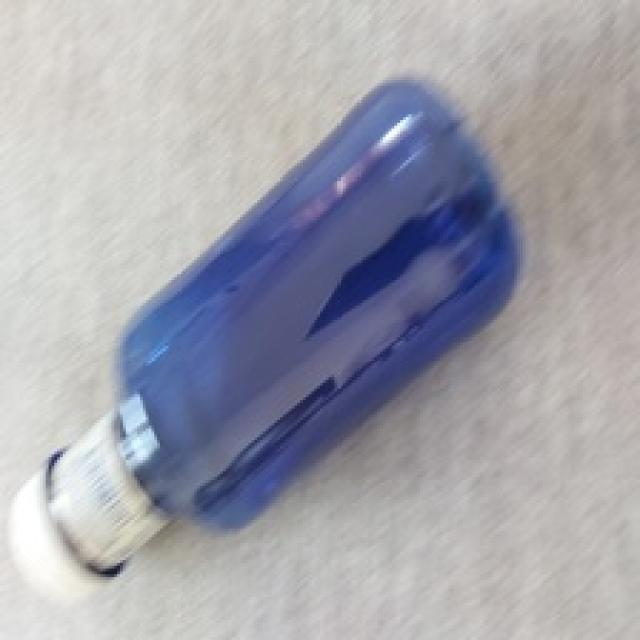Plastic: (43, 72, 526, 590)
